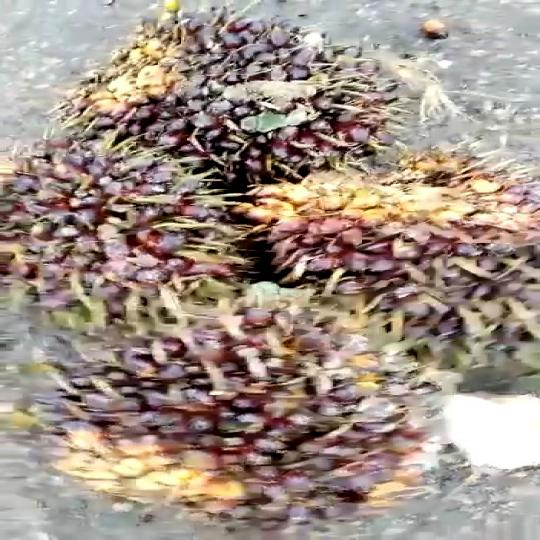kurang masak: (46, 280, 455, 536), (241, 150, 540, 366), (80, 7, 412, 169), (0, 140, 279, 316)
